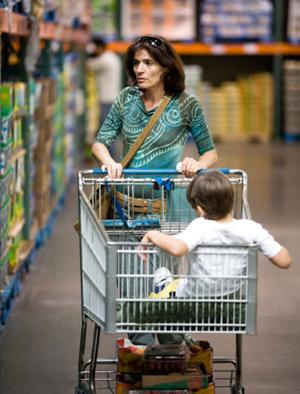person: (92, 33, 219, 348)
